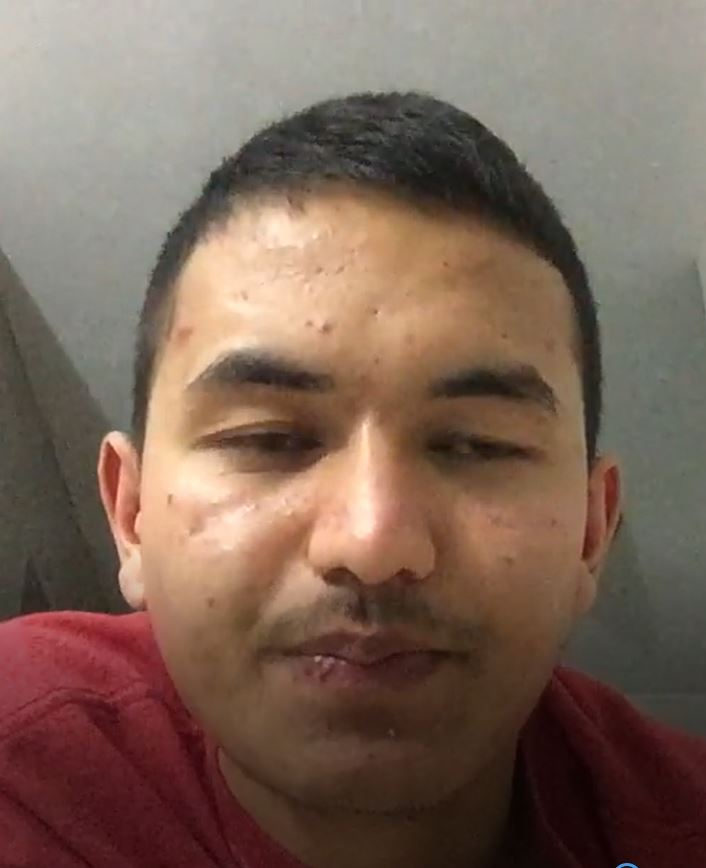Half Asleep: (173, 378, 572, 508)
